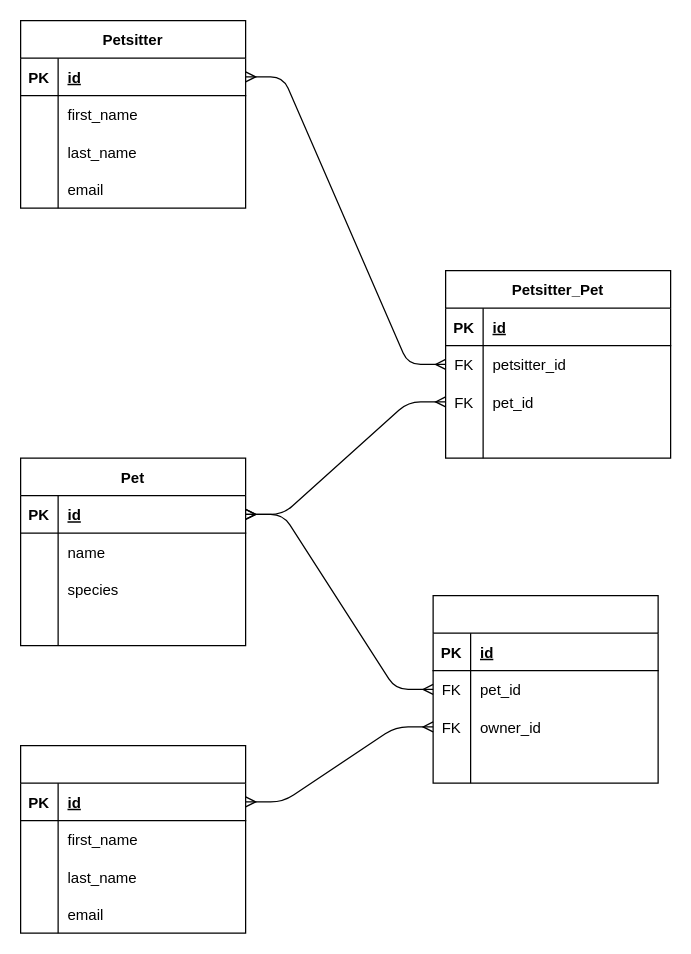
This 691x954 diagram has some shape labels left out. Here are the shapes that lost their labels. From the top down, the box of each, then its label:
(432, 594, 658, 783): Owner_Pet
(19, 744, 246, 933): Owner
